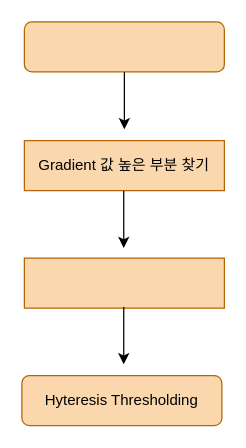
The diagram is 246 pixels wide and 448 high, and some of its shapes have lost their labels. The box of each missing label's shape, as (x1, y1, x2, y2) in pixels:
노이즈 제거: (23, 21, 224, 72)
최대값이 아닌 픽셀의값을 0으로 만들기: (23, 257, 224, 308)
